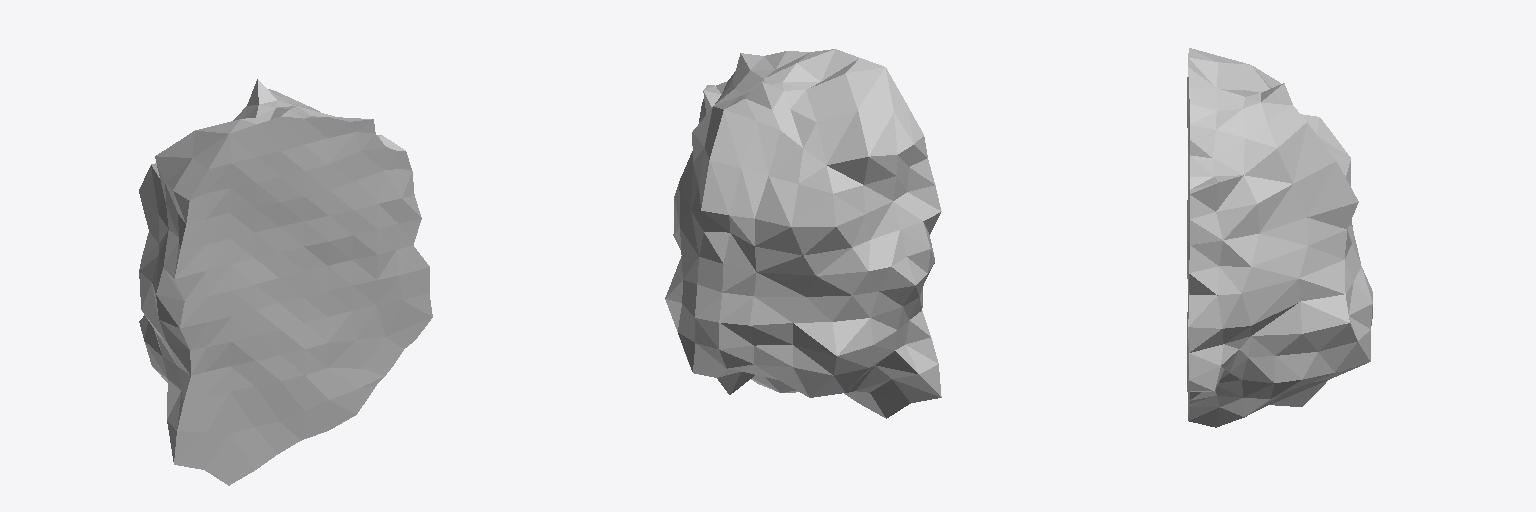
Rendered from wall_block.obj.
The picture shows the model from 3 angles: view 1: azimuth 30°, elevation 25°; view 2: azimuth 150°, elevation 25°; view 3: azimuth 270°, elevation 25°; orthographic projection.
Parts seen in each view (by area): view 1: wall_block_Cube.002; view 2: wall_block_Cube.002; view 3: wall_block_Cube.002.
Part boxes in pixels (left/top/right/bottom): wall_block_Cube.002: left=139, top=79, right=432, bottom=485; wall_block_Cube.002: left=665, top=49, right=941, bottom=418; wall_block_Cube.002: left=1187, top=48, right=1372, bottom=427.
Size of the model in its own units: 1.8 by 2.34 by 1.1.